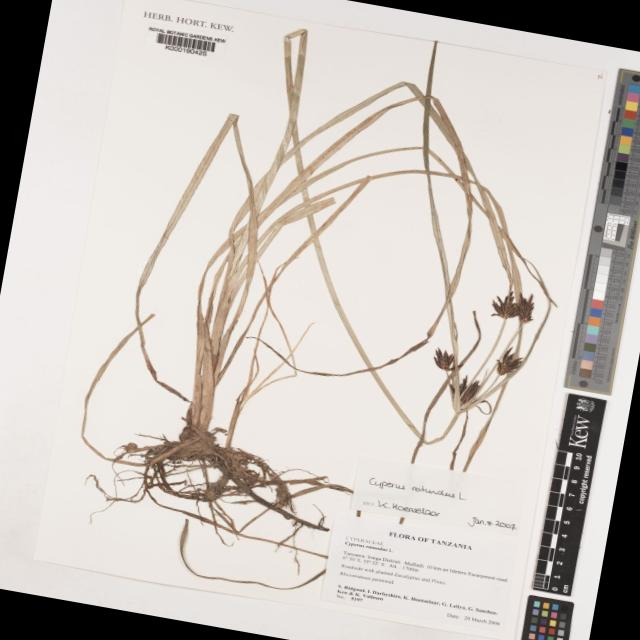cyperus: (395, 261, 567, 444)
